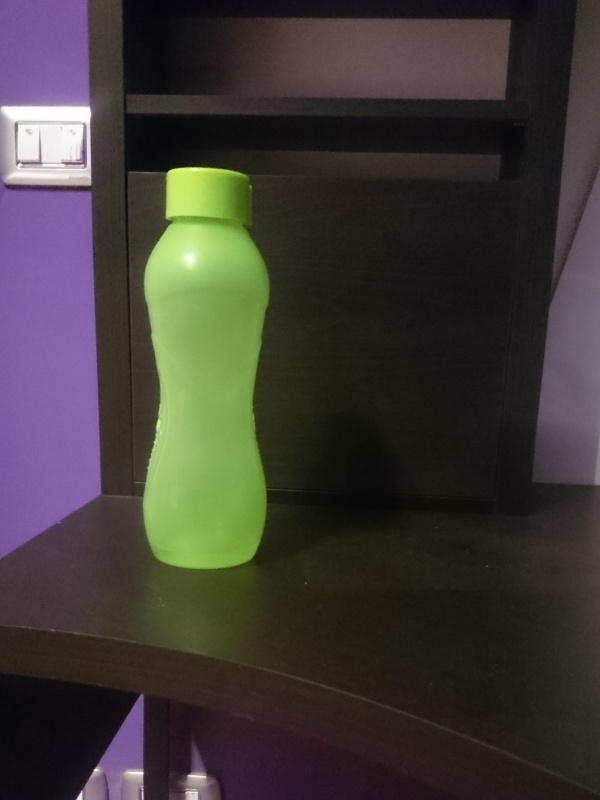my bottle: (140, 169, 270, 567)
